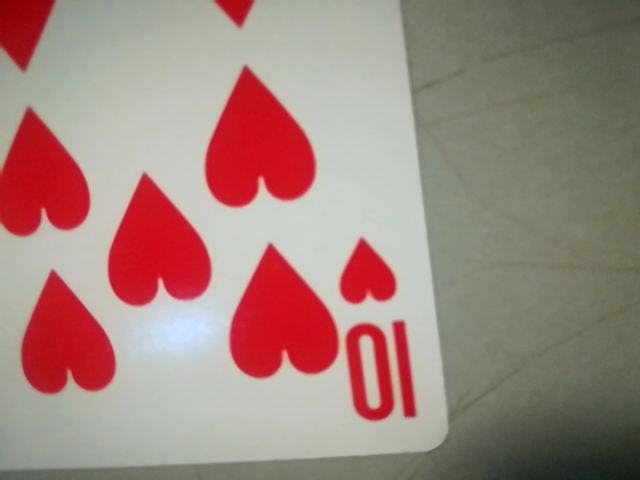hx 10: (332, 217, 435, 439)
